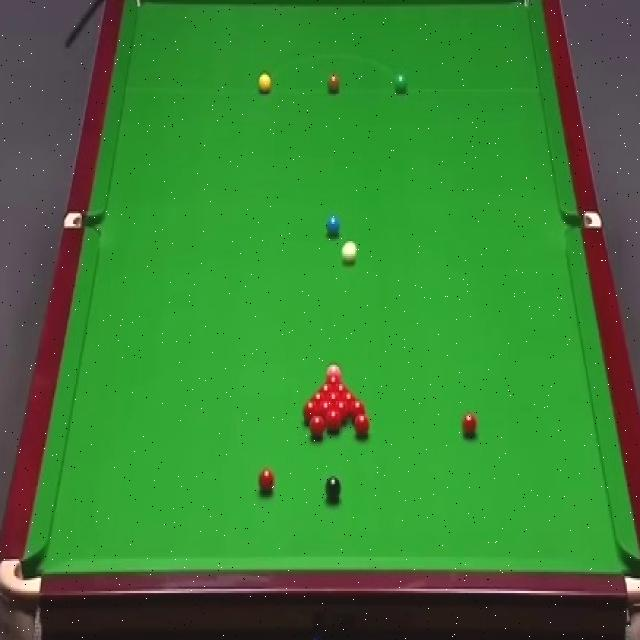black-ball: (323, 474, 340, 501)
blue-ball: (326, 217, 341, 234)
brown-ball: (326, 74, 342, 92)
green-ball: (393, 71, 409, 94)
pink-ball: (326, 364, 342, 380)
red-ball: (306, 414, 326, 438), (258, 468, 276, 494), (462, 412, 477, 437), (326, 408, 341, 432), (302, 400, 317, 423), (348, 399, 363, 422), (354, 414, 369, 435), (335, 401, 349, 423), (312, 391, 324, 405), (328, 392, 339, 406), (327, 377, 338, 389)
white-ball: (342, 242, 356, 266)
yellow-ball: (258, 73, 272, 94)
